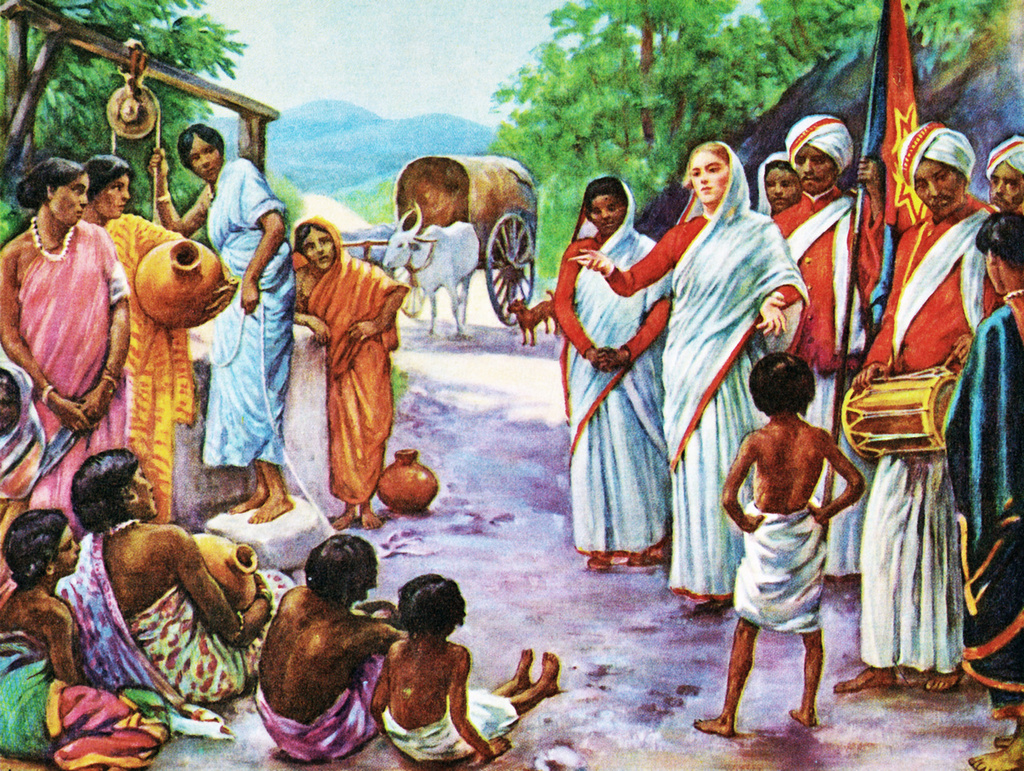Person: (0, 114, 1024, 771)
